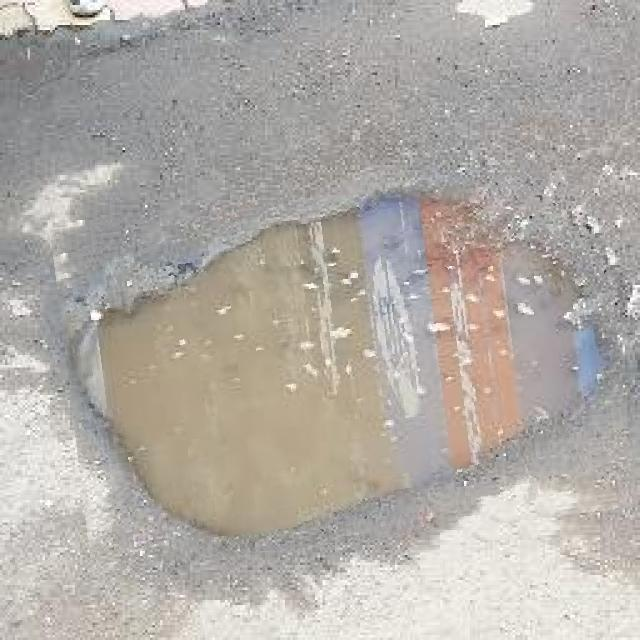puddle: (61, 180, 630, 558)
